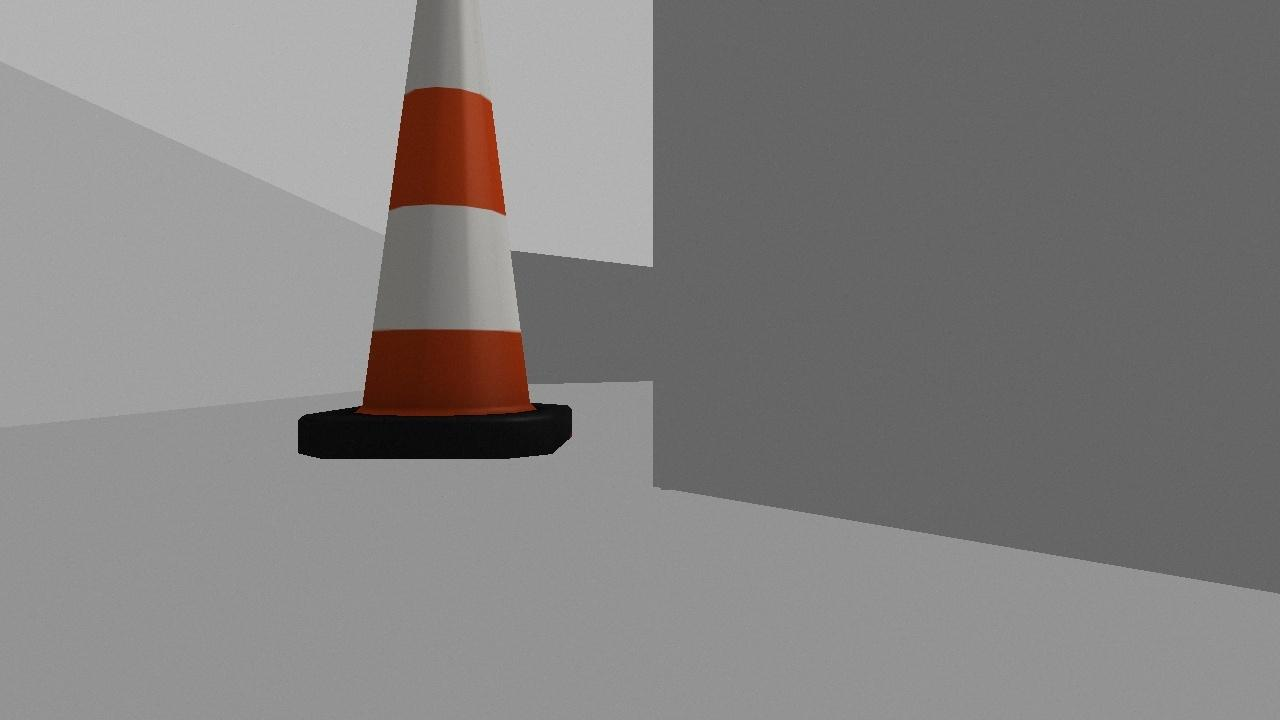cone_barrel: (294, 0, 572, 461)
